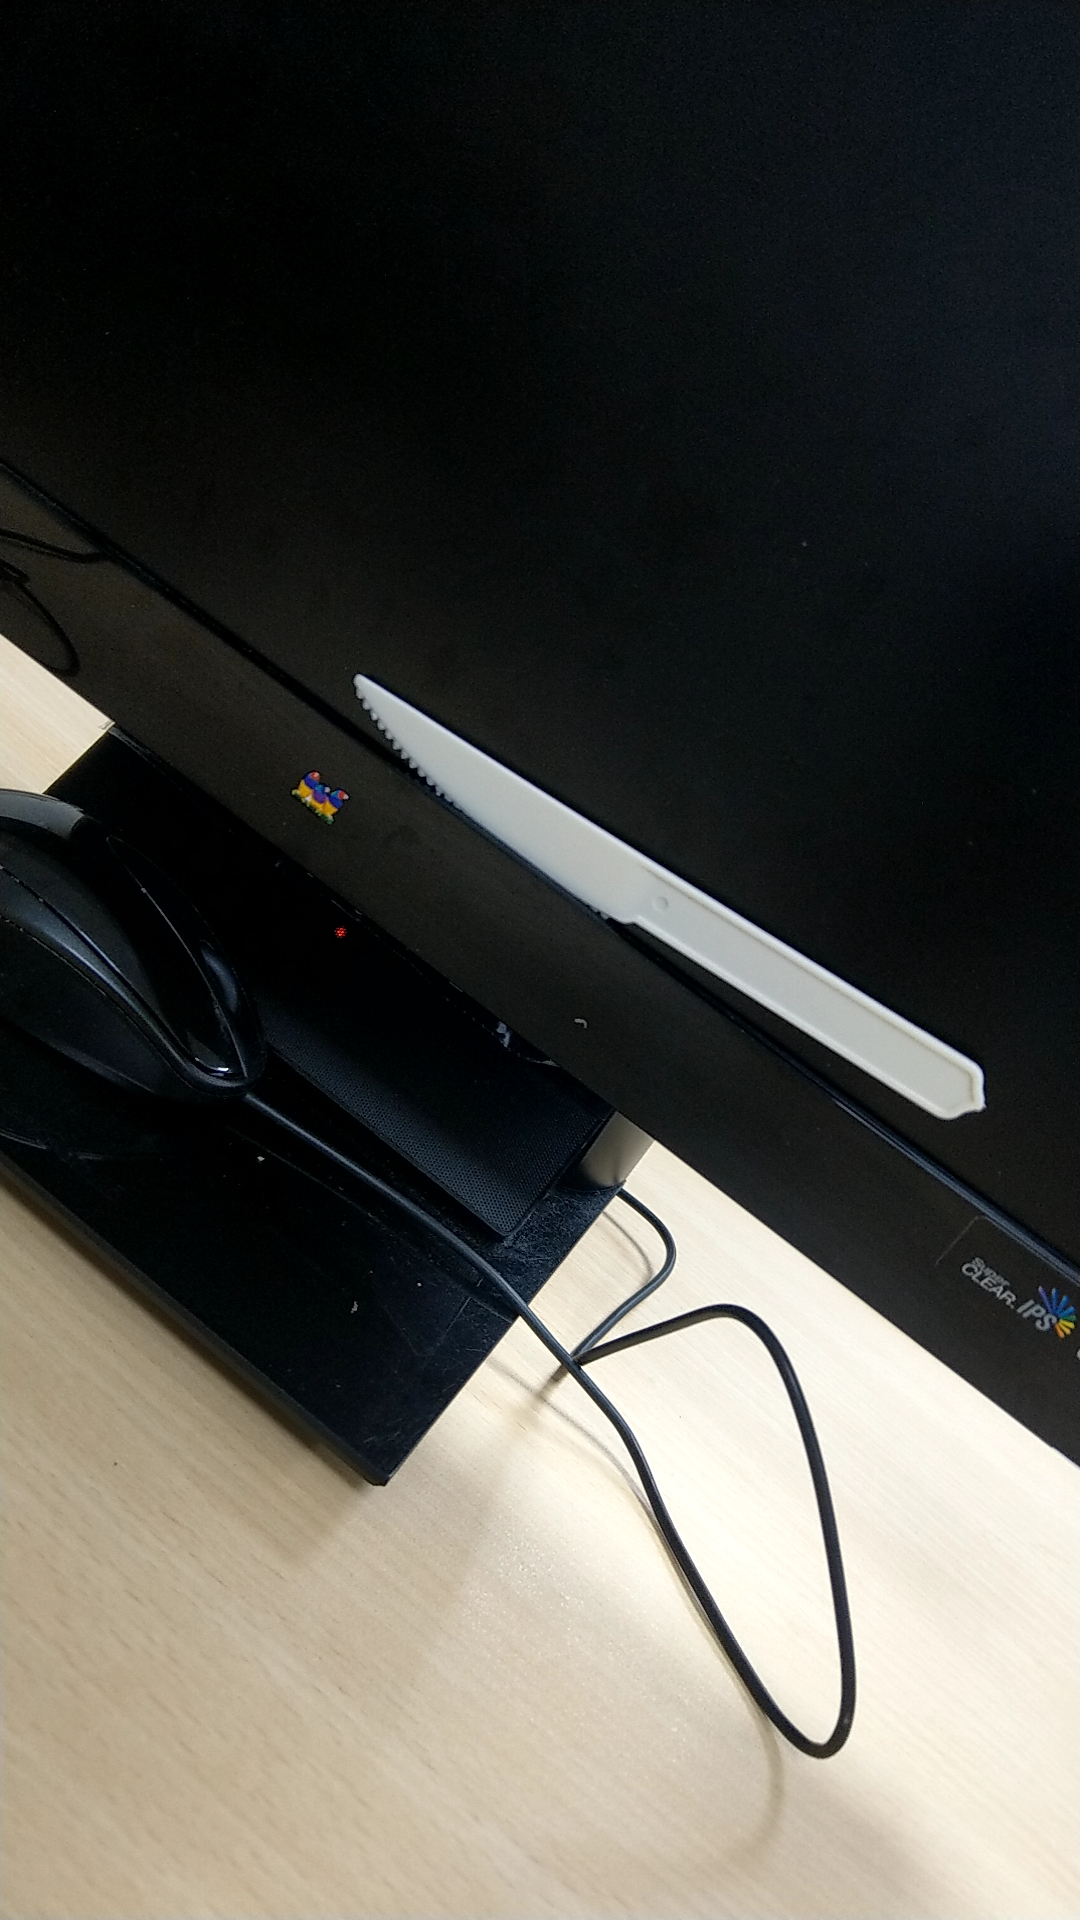knife: (345, 618, 998, 1135)
